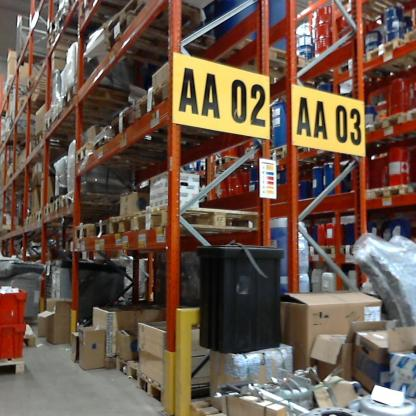pallet: (123, 79, 409, 197), (197, 20, 321, 114), (105, 103, 246, 163), (97, 3, 214, 74), (134, 201, 277, 241), (84, 122, 200, 164), (73, 139, 172, 179), (131, 367, 224, 408), (60, 81, 158, 111), (61, 186, 144, 215), (366, 35, 414, 81), (50, 105, 125, 133), (41, 32, 105, 56), (45, 18, 110, 39), (33, 135, 93, 155), (370, 107, 405, 139), (2, 344, 34, 378), (38, 119, 89, 139), (99, 3, 140, 27), (28, 70, 61, 99), (347, 5, 406, 21), (110, 207, 136, 241), (13, 92, 52, 114), (18, 317, 40, 354), (114, 354, 138, 383), (396, 20, 416, 52), (71, 220, 97, 244), (306, 243, 342, 260), (92, 217, 112, 244), (341, 241, 368, 257), (22, 211, 37, 231), (404, 103, 416, 126), (43, 201, 55, 222), (35, 206, 45, 227), (53, 195, 63, 214), (30, 208, 36, 217)
small_load_carrier: (2, 281, 39, 327), (2, 323, 31, 364)
